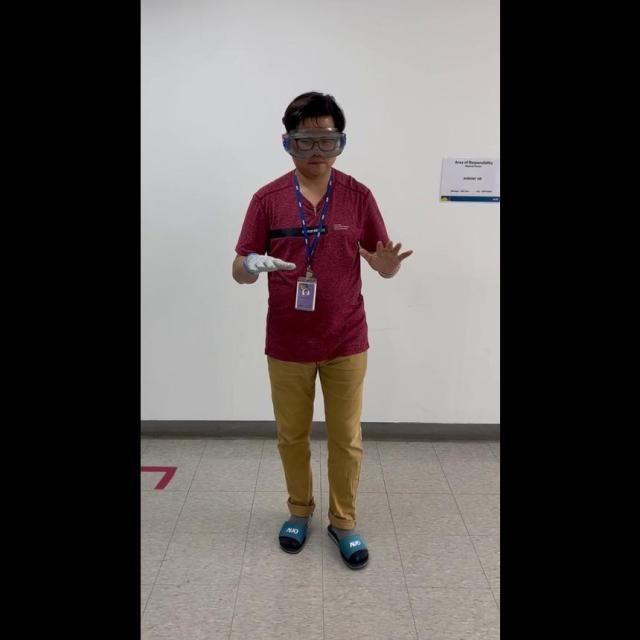bare_hand: (356, 232, 412, 276)
gloved_hand: (240, 246, 292, 278)
